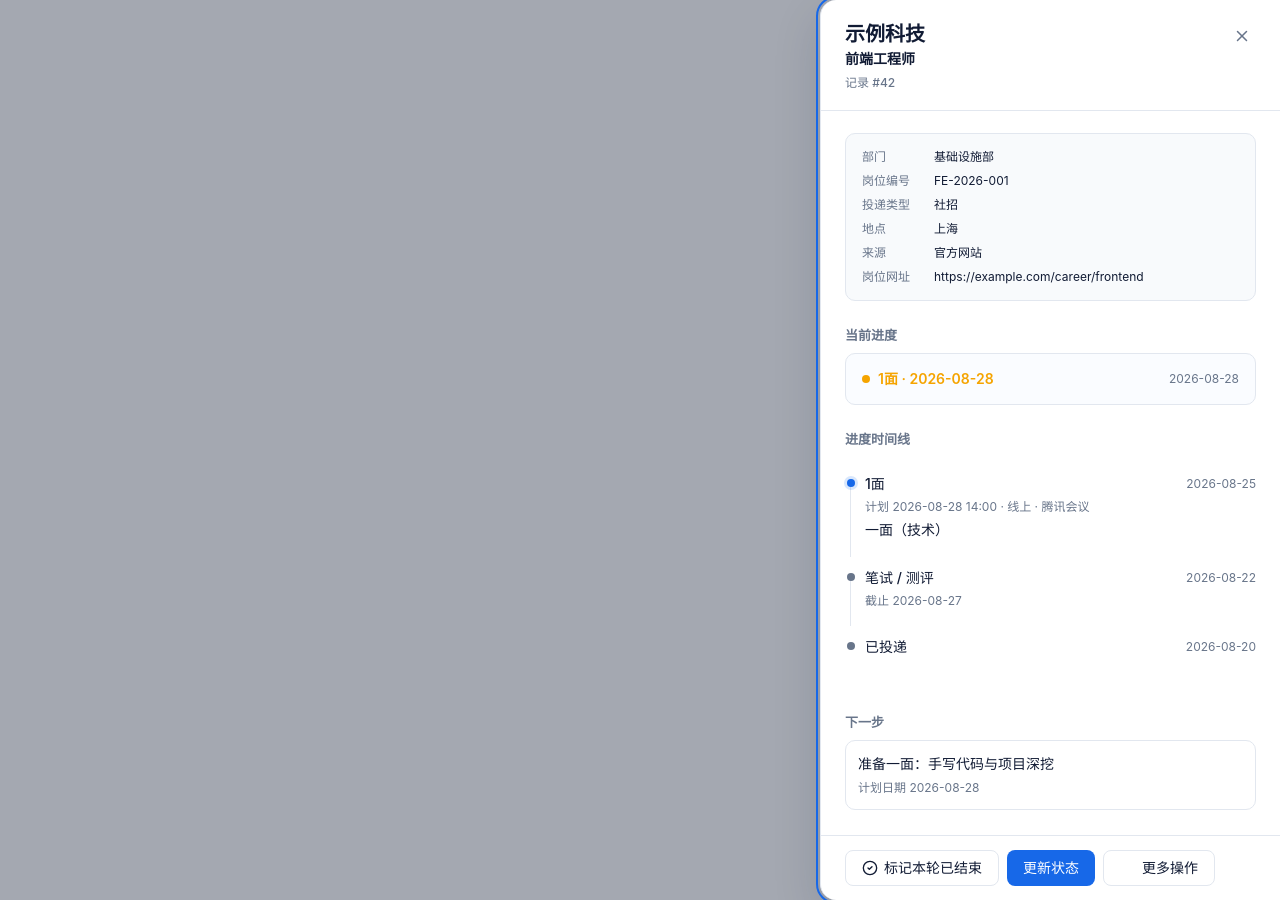
Test: DetailDrawer › 当前为精确面试轮次时，从详情打开独立完成弹窗
Click the button with test id "drawer-completion-button" at point(922, 868), box [845,850,999,886]
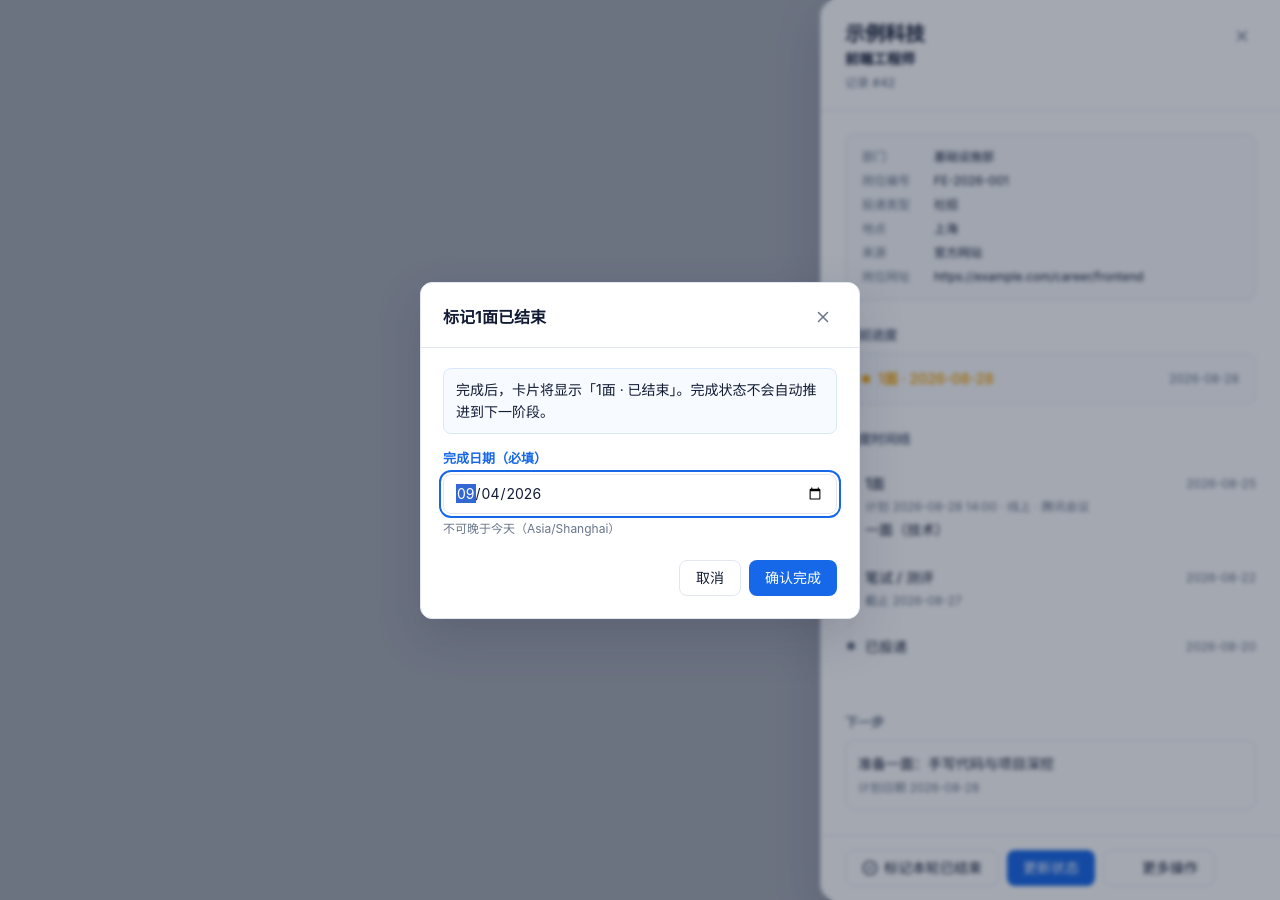
Check: the dialog "标记1面已结束" is shown, box [420,282,860,618]
Check: the text "完成后，卡片将显示「1面 · 已结束」。完成状态不会自动推进到下一阶段。" is shown, box [443,368,837,434]
